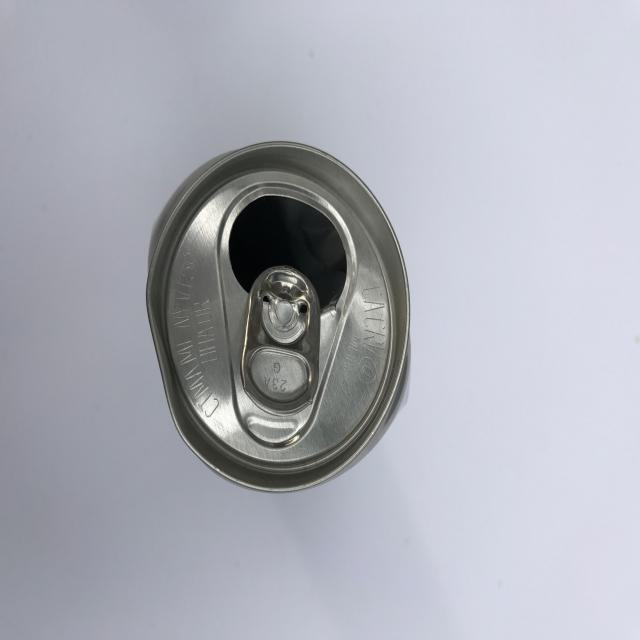metal: (148, 140, 412, 490)
